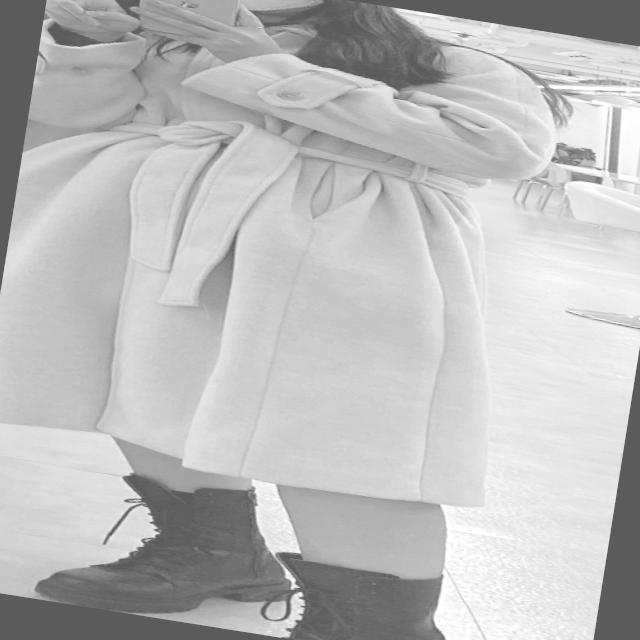coat: (0, 0, 569, 521)
